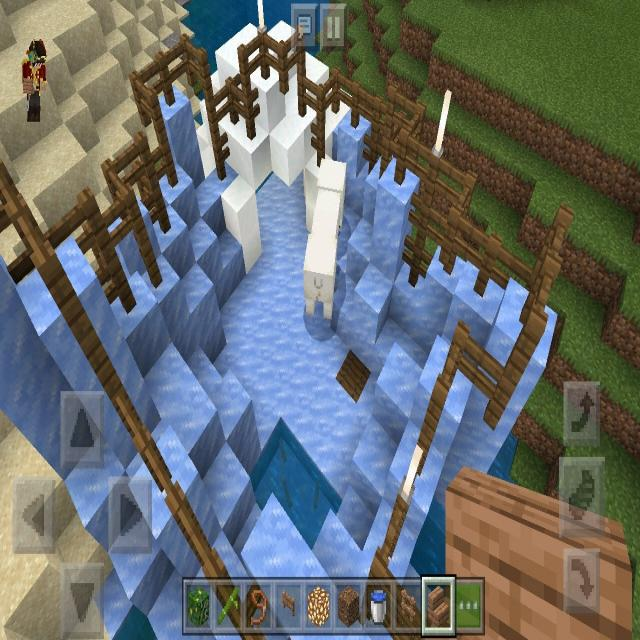Polar Bear: (302, 214, 338, 322), (309, 154, 349, 240)
